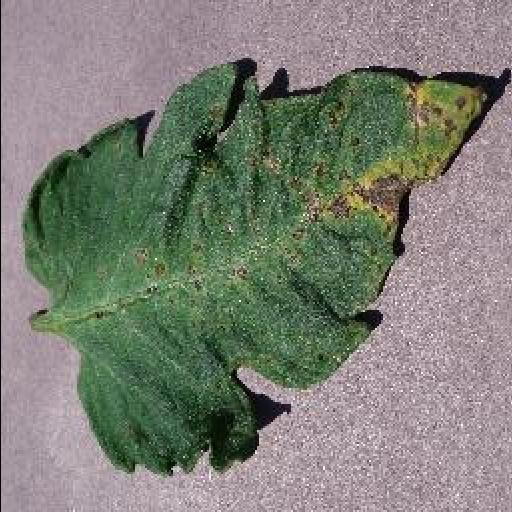disease_tomato: (22, 56, 496, 478)
